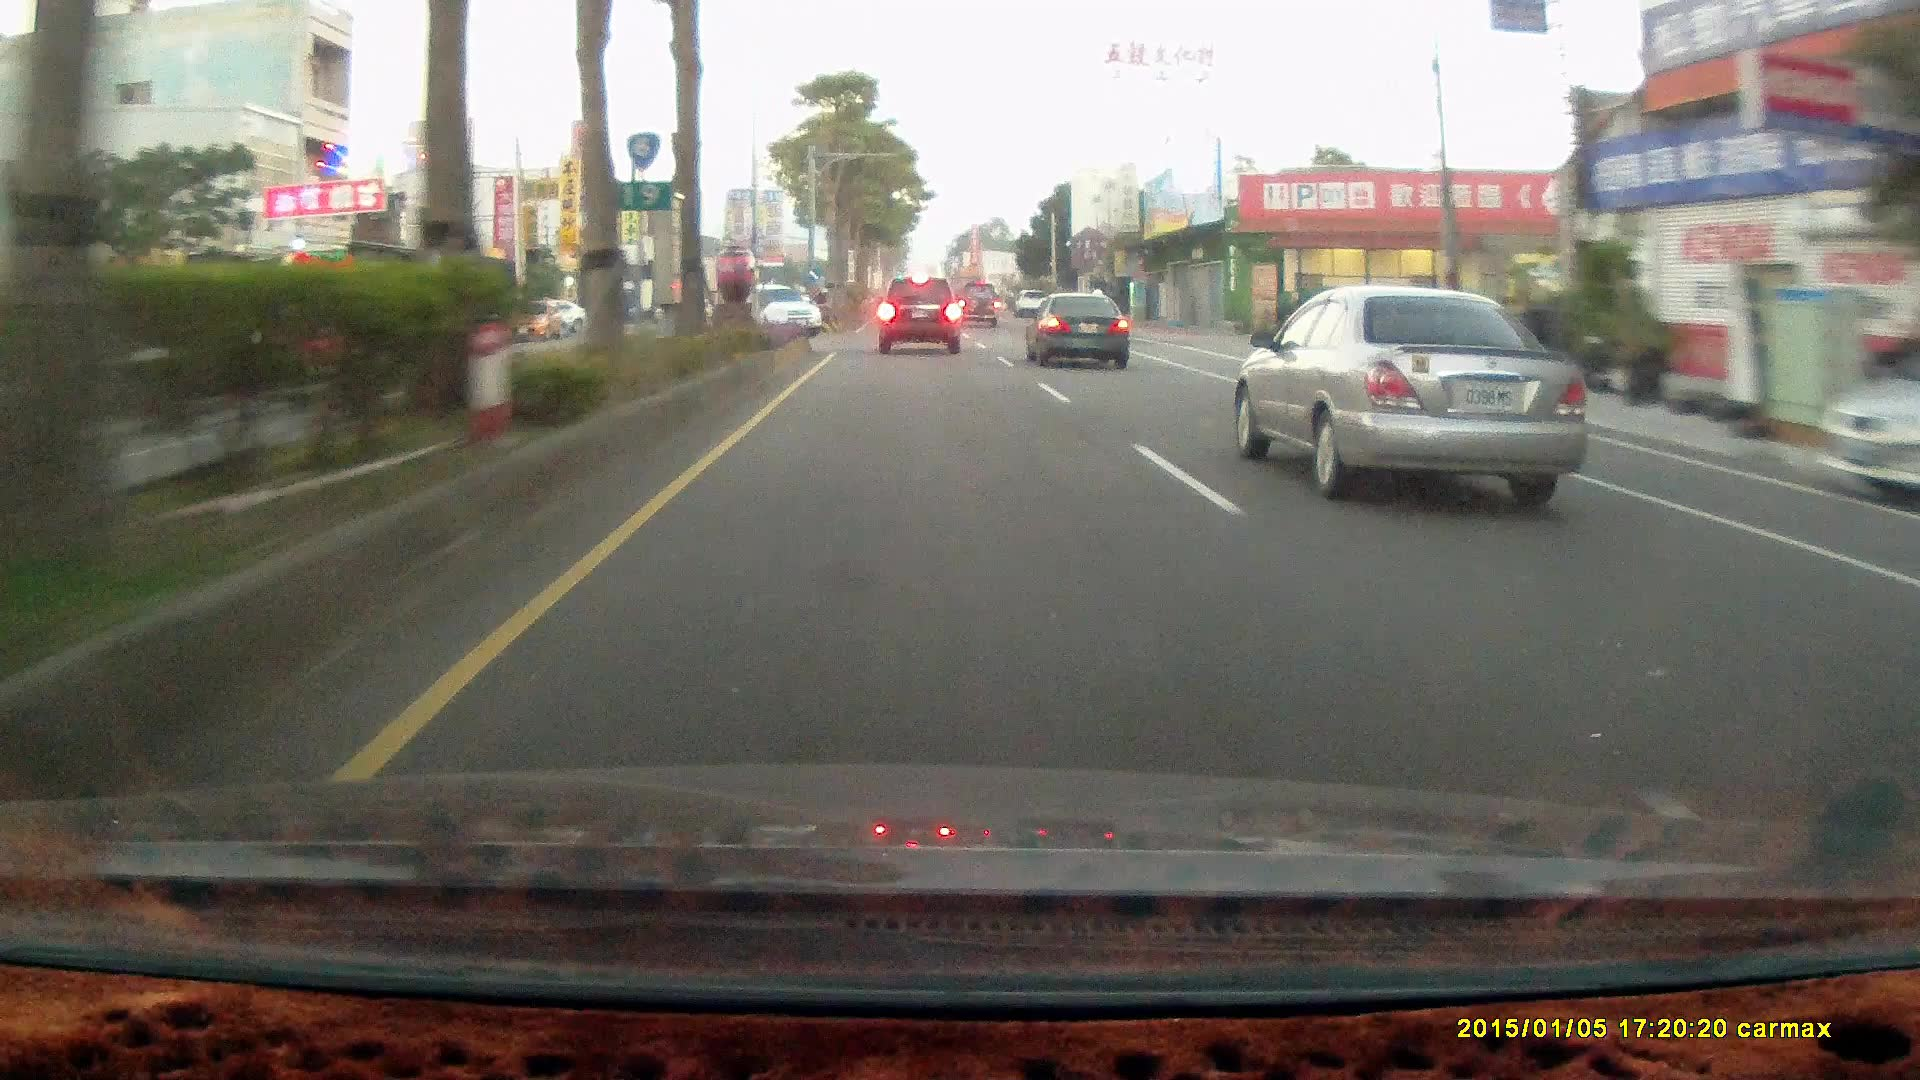vehicle: (1238, 287, 1582, 504), (1807, 315, 1920, 506), (1812, 316, 1920, 509), (1025, 291, 1134, 373), (1023, 287, 1127, 365), (880, 273, 967, 357), (876, 273, 957, 349), (750, 278, 822, 336), (756, 284, 824, 342), (953, 280, 1001, 328)
